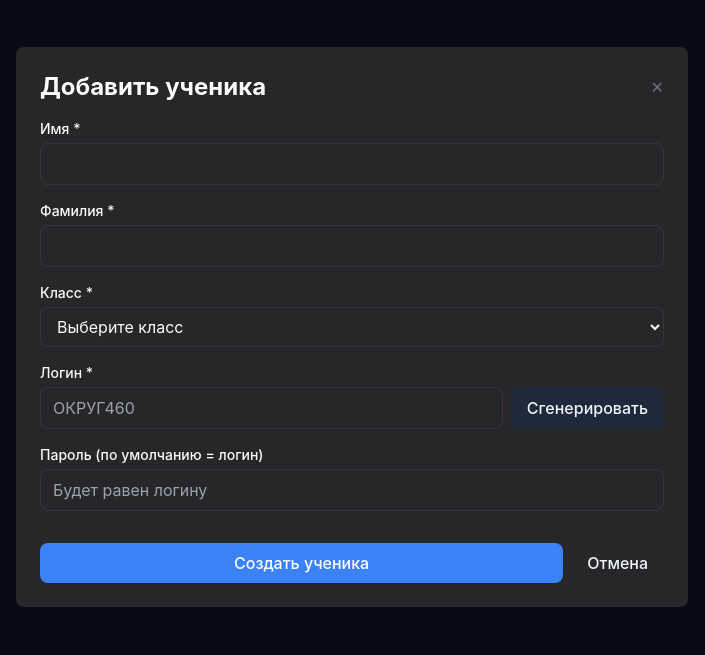
Test: AddStudentModal › should validate required fields
Click the button "Создать ученика" at (302, 563), box [40,543,563,583]
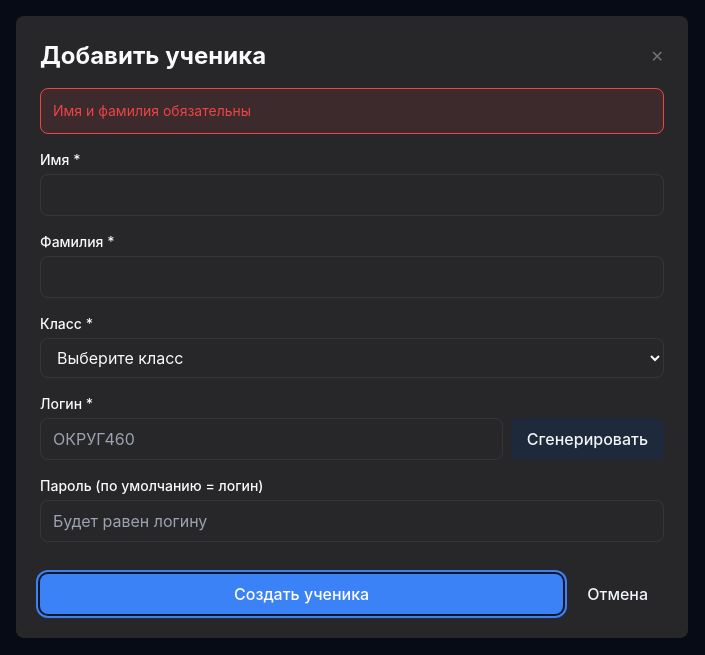
Result: the text "Имя и фамилия обязательны" is shown at [53,102,251,119]
